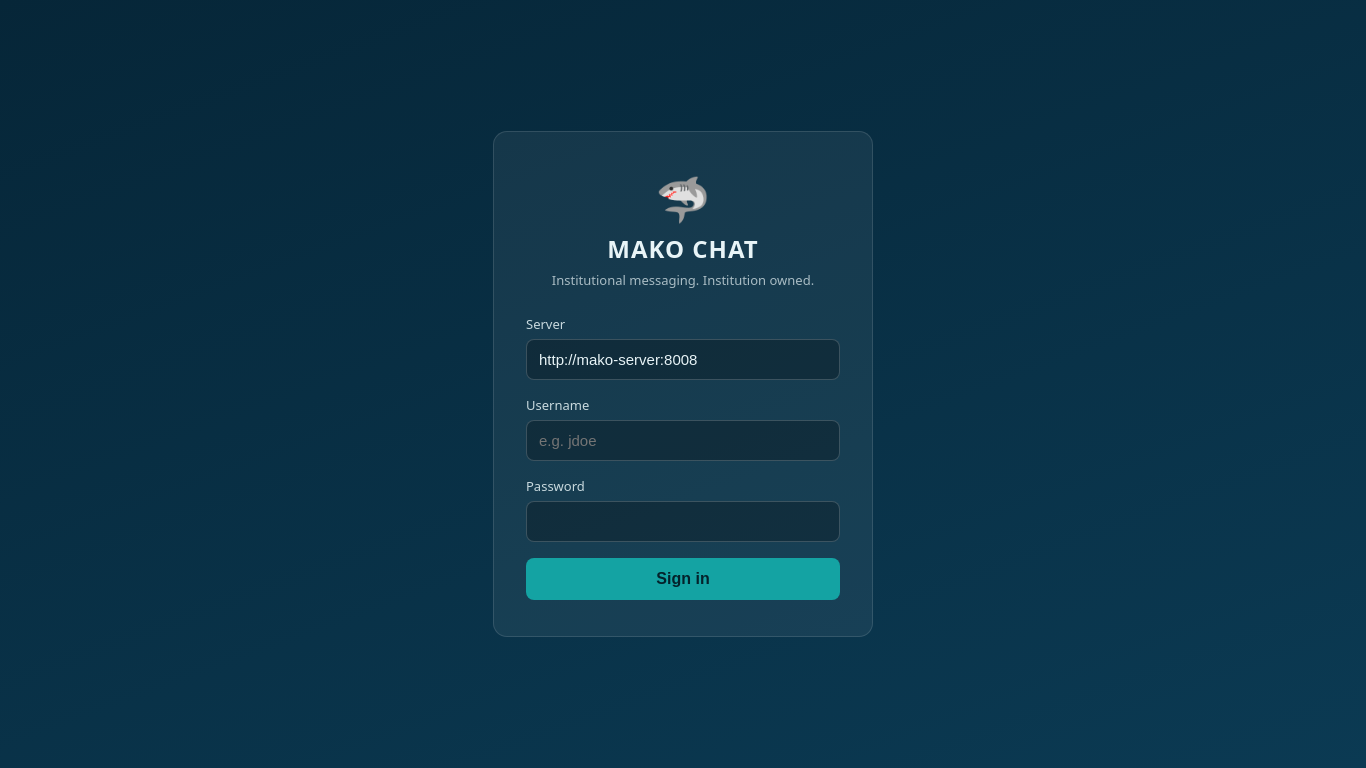
LoginScreen › surfaces a friendly error when the wrapper rejects
Step 1. Type "jdoe" into the field labelled "Username" → (683, 440), box [526,420,840,461]
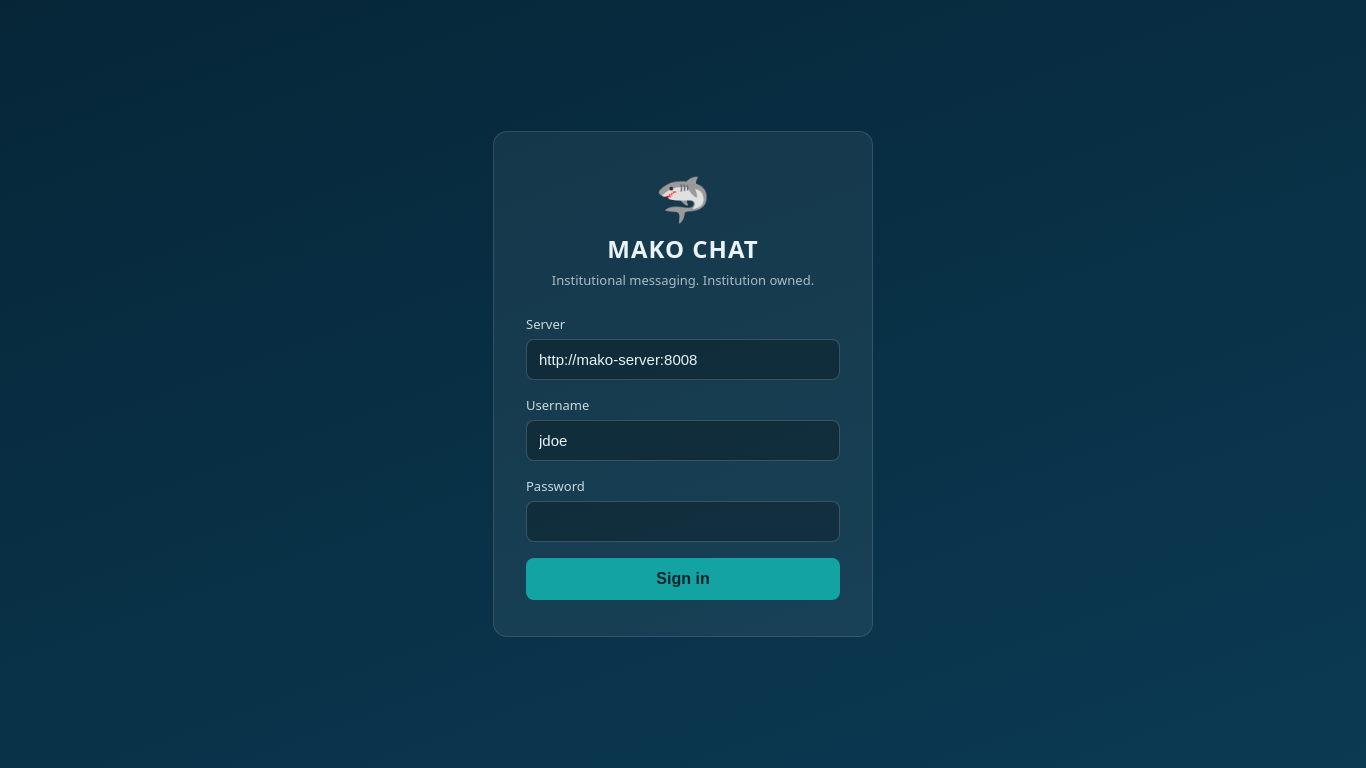
Step 2. Type "wrong" into the password field labelled "Password" → (683, 522), box [526,501,840,542]
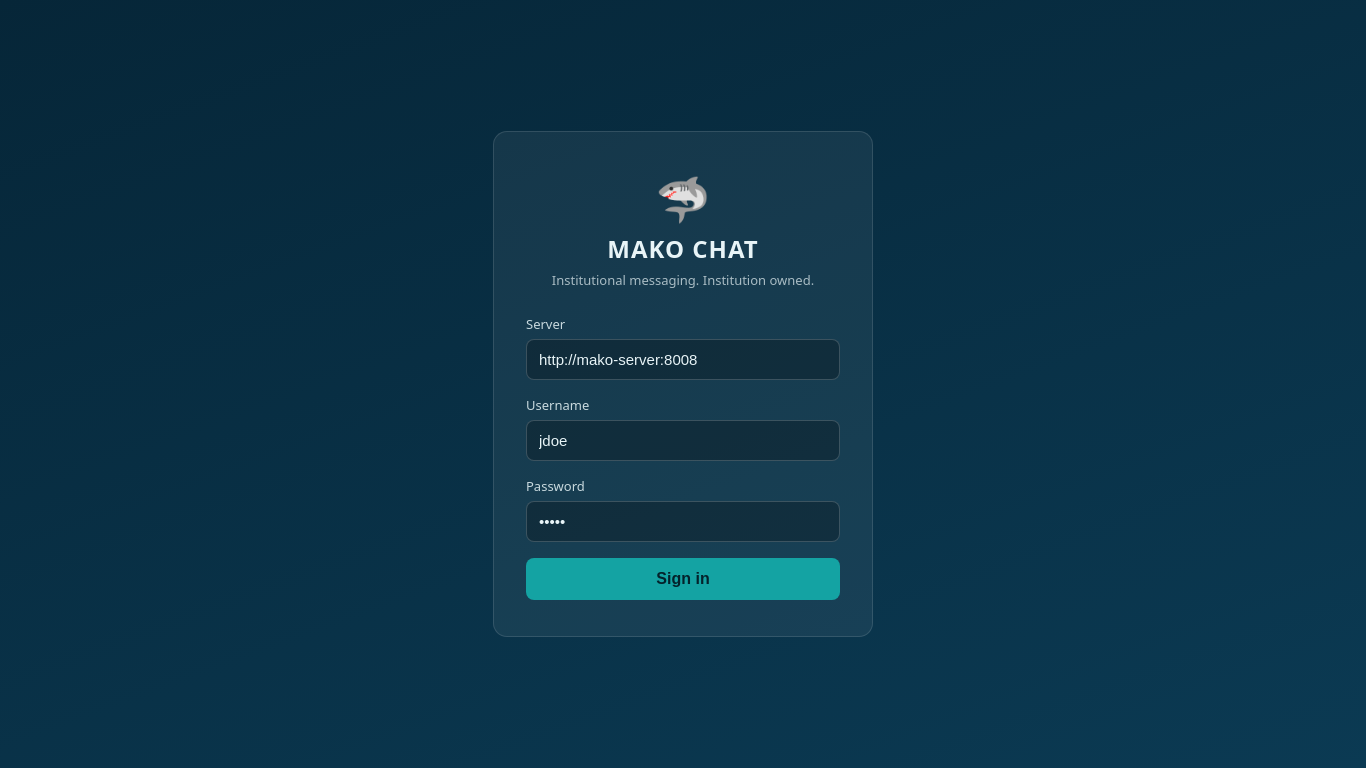
Step 3. Click the button "Sign in" → (683, 579), box [526,558,840,600]
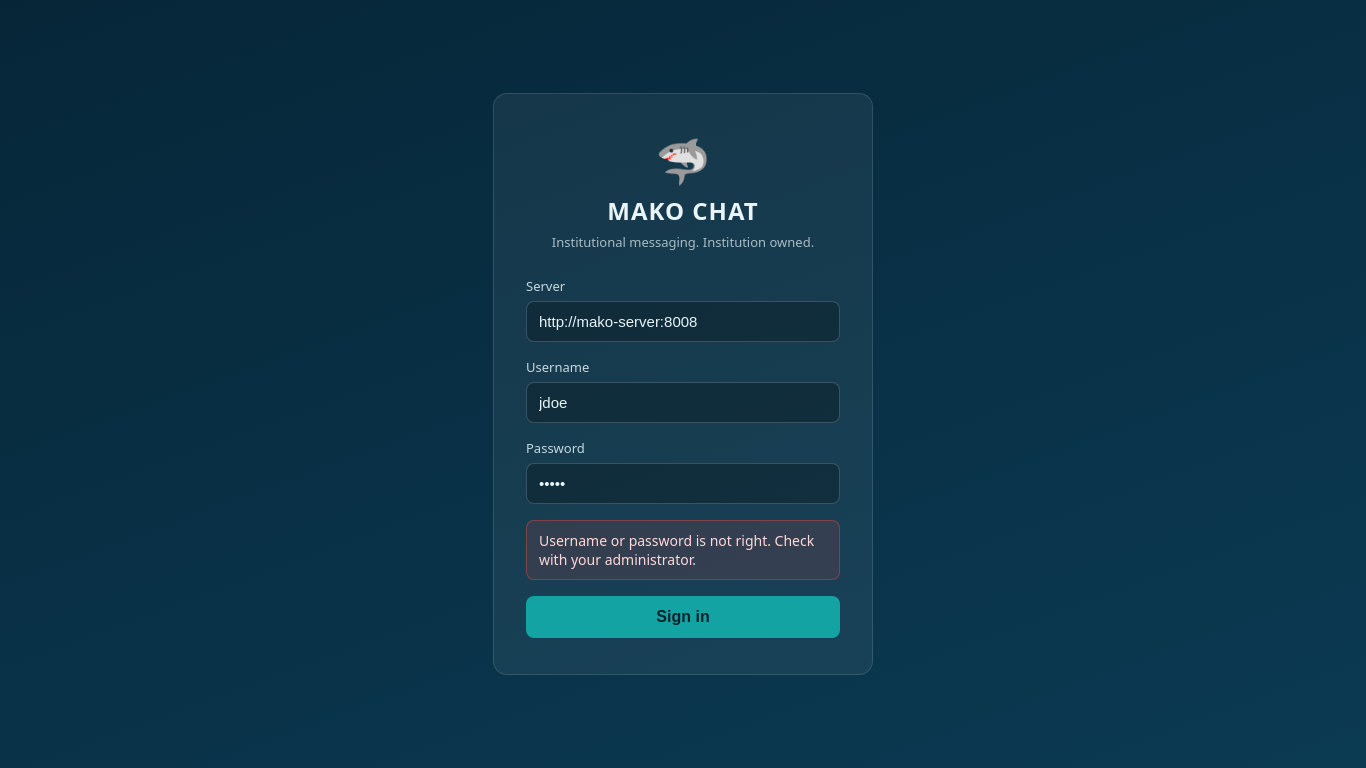
Result: the message "Username or password is not right. Check with your administrator." is shown at [526,520,840,580]
Result: the message shows "not right" at [539,531,814,569]
